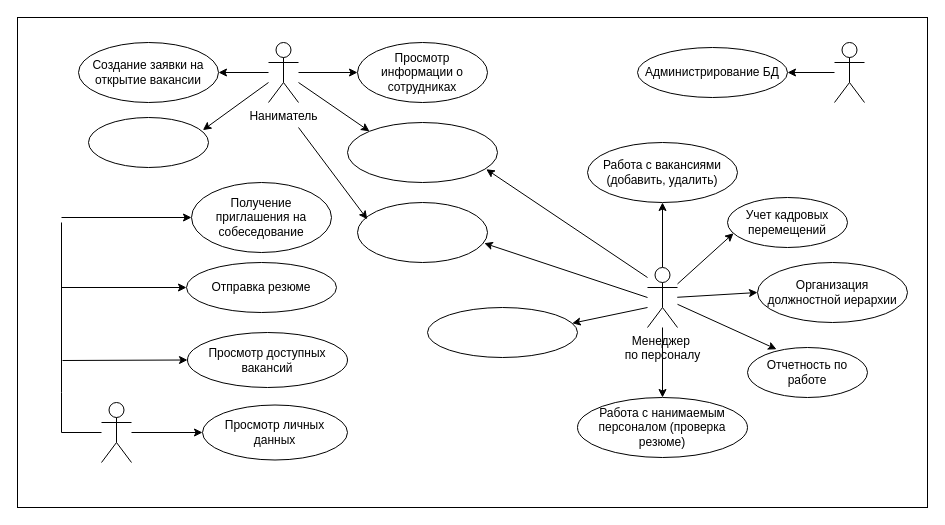
The diagram is 945 pixels wide and 525 high, and some of its shapes have lost their labels. Here are the shapes that lost their labels. From the top down, the centre of each, then its label:
At point 849,72: "Админ БД".
At point 148,142: "Указание требований".
At point 422,152: "Просмотр списка кандидатов на работу".
At point 422,232: "Проведение собеседований".
At point 502,332: "Кадровая работа (прием, увольнение)".
At point 116,432: "Персонал".
